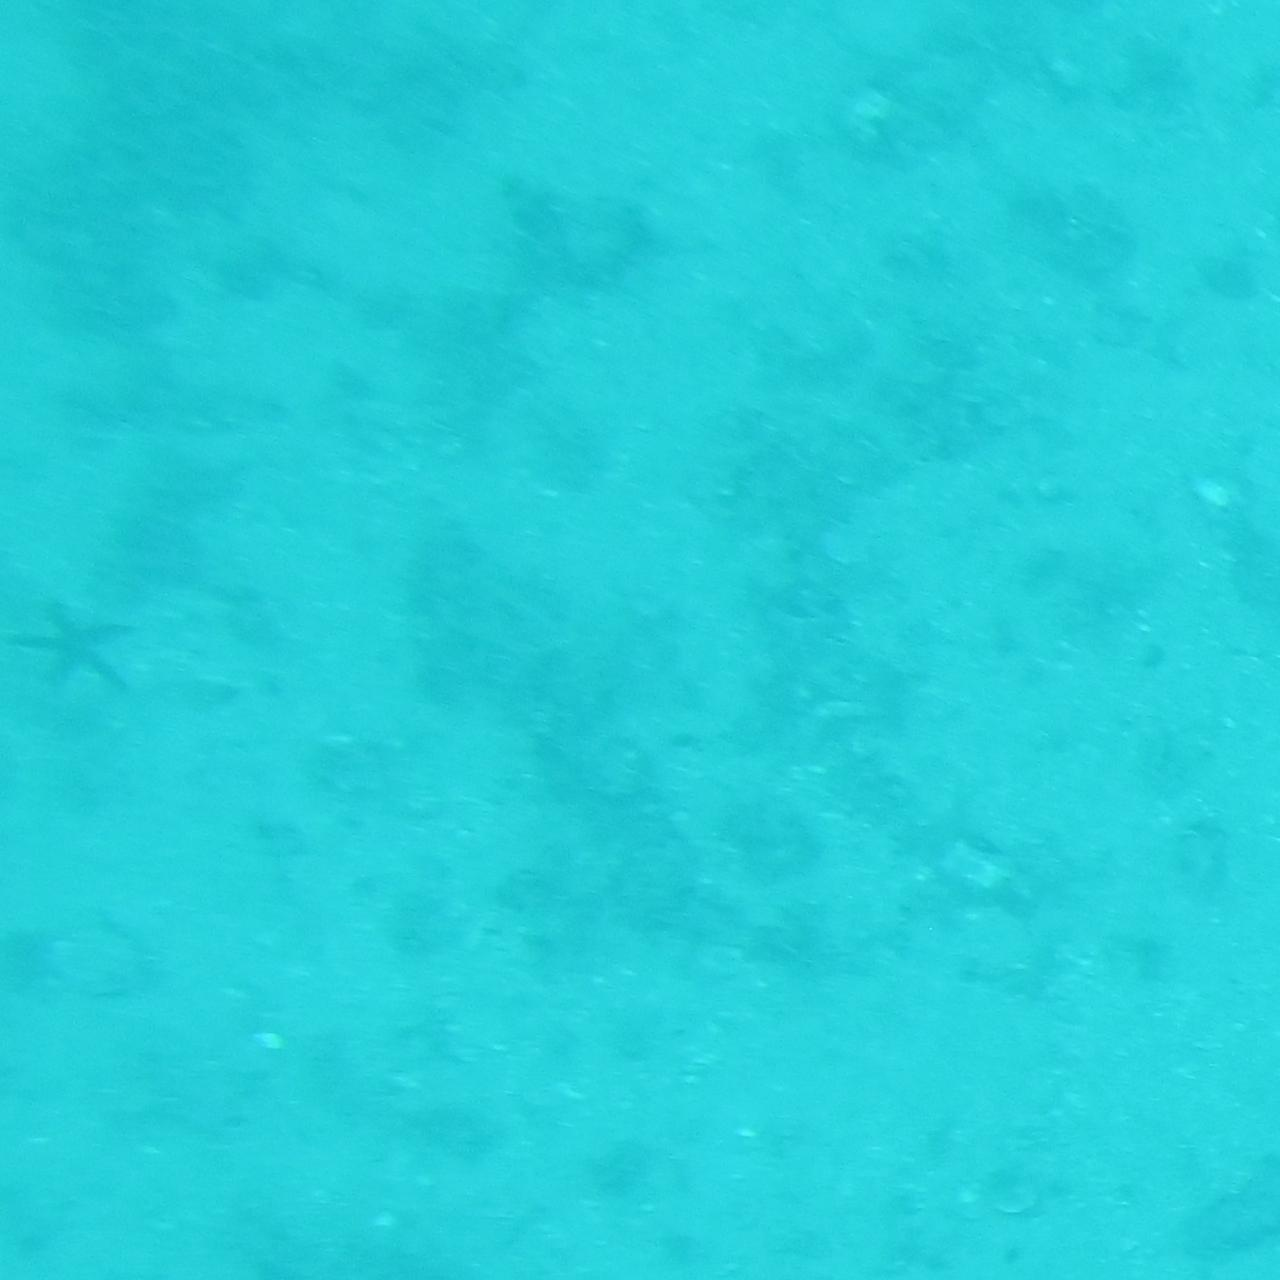Asteroidea: (0, 584, 150, 696)
